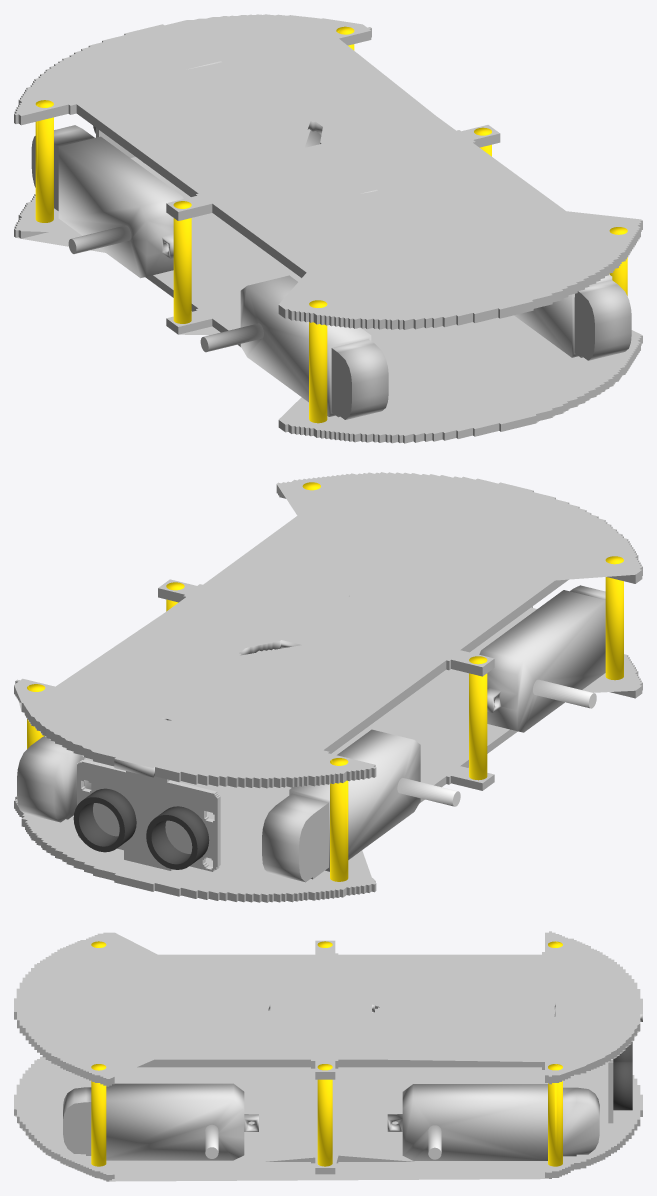
Rendered from #Car Base.fbx.
3 renders of one model, top to bottom at view 1: azimuth 30°, elevation 25°; view 2: azimuth 150°, elevation 25°; view 3: azimuth 270°, elevation 25°, orthographic. The views are drawn at different scales.
Visible parts, largest first — view 1: Base; view 2: Base; view 3: Base.
Boxes of the visible parts, left/top/right/bottom form: Base: left=14, top=14, right=642, bottom=443; Base: left=14, top=472, right=642, bottom=902; Base: left=14, top=931, right=642, bottom=1181.
Size of the model in its own units: 414 by 681 by 123.
